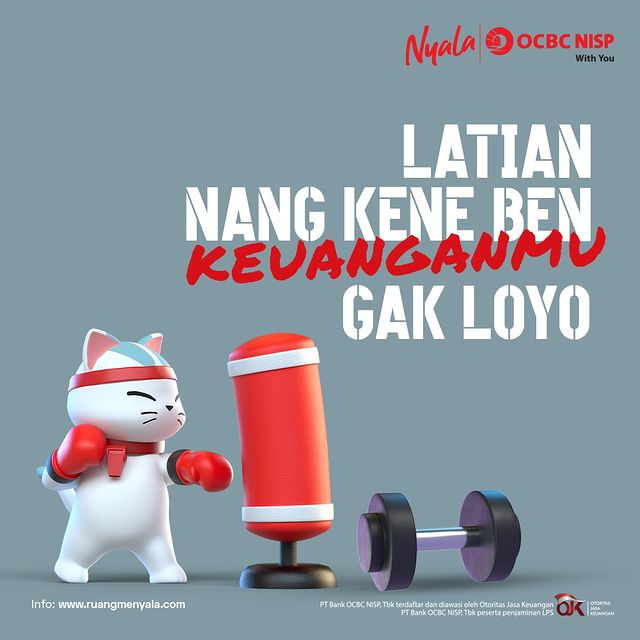ojk: (554, 588, 617, 620)
